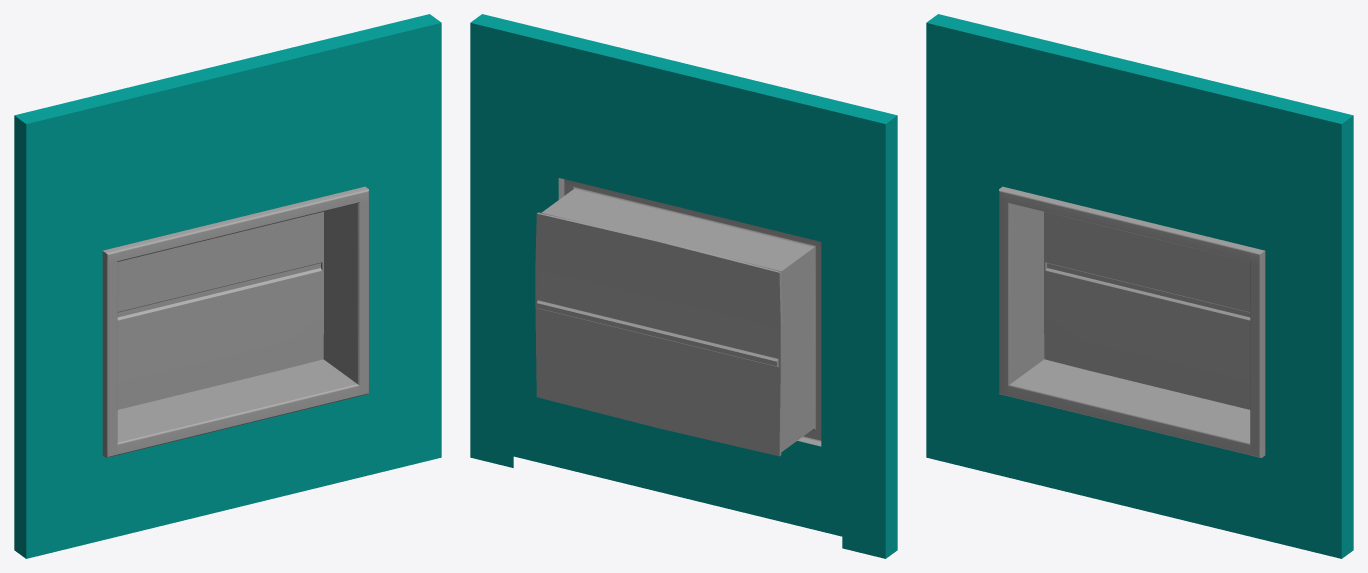
File: EN_W_hatch2.fbx
3 renders of one model, left to right at view 1: azimuth 30°, elevation 25°; view 2: azimuth 150°, elevation 25°; view 3: azimuth 330°, elevation 25°, orthographic.
Visible parts, largest first — view 1: EN_W_hatch2; view 2: EN_W_hatch2; view 3: EN_W_hatch2.
Boxes of the visible parts, x1,y1,x2,y2 form: EN_W_hatch2: [14, 14, 441, 558]; EN_W_hatch2: [470, 14, 897, 558]; EN_W_hatch2: [926, 14, 1353, 558].
Size of the model in its own units: 400 by 400 by 62.82.
